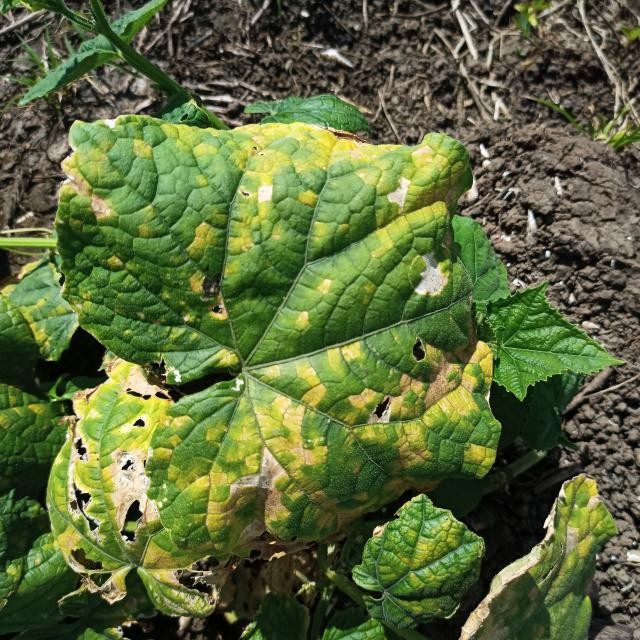disease_cucumber: (44, 118, 492, 588)
